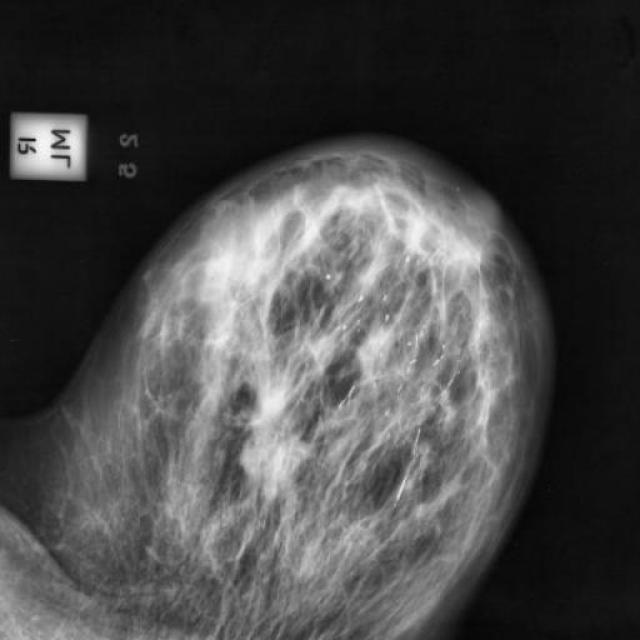cancer: (274, 170, 326, 230)
